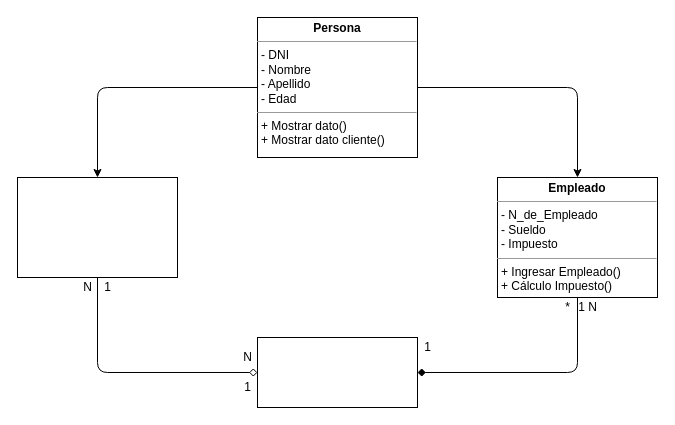
The diagram is 675 pixels wide and 425 high, and some of its shapes have lost their labels. Each missing label, with the centre of its shape:
"Cliente - N_de_Cliente - N_de_Pedido + Ingresar Cliente ()" goes at point 97,227.
"Empresa - N_de_Registro - Nombre" goes at point 337,372.
